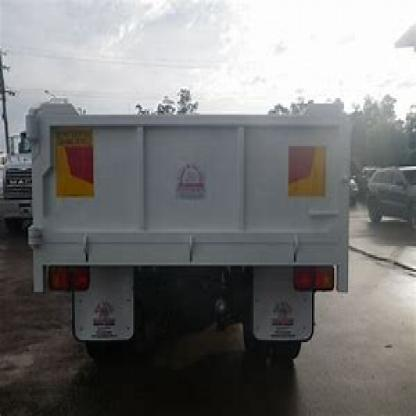dump_truck: (19, 70, 369, 385)
